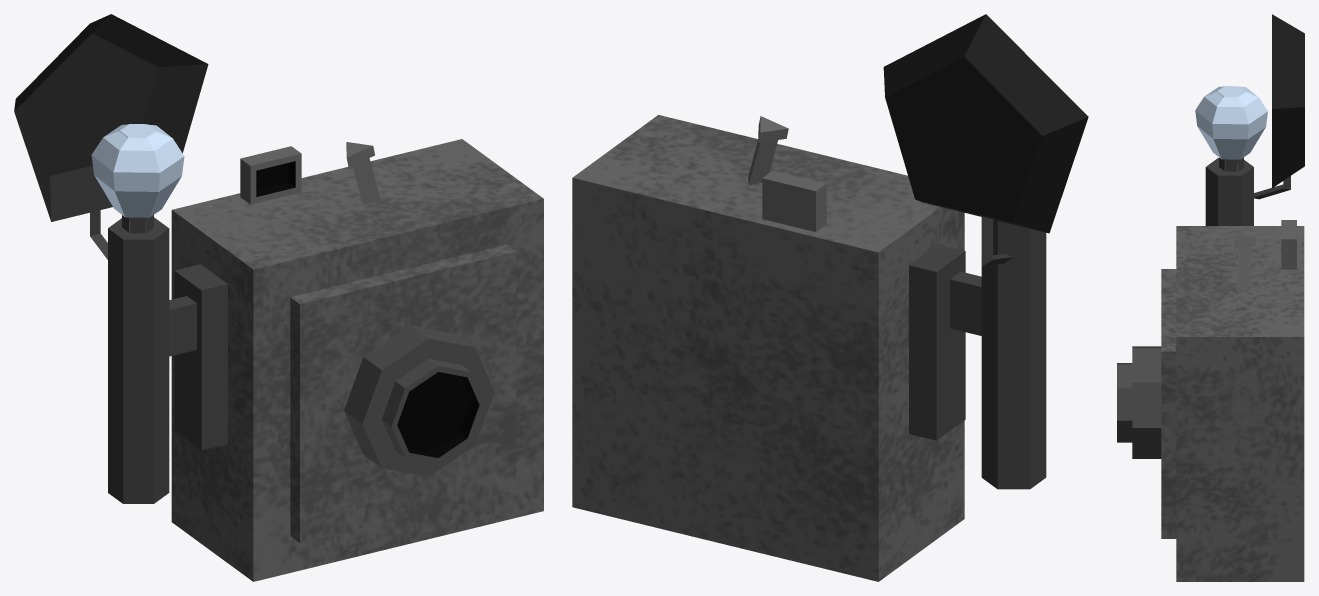
The model's file is cameraTexturizadaModel.fbx.
3 renders of one model, left to right at view 1: azimuth 30°, elevation 25°; view 2: azimuth 150°, elevation 25°; view 3: azimuth 270°, elevation 25°, orthographic. The views are drawn at different scales.
Parts seen in each view (by area): view 1: Body, FlashCilindro, Subarmg, CamCilynder, SideConnector, Lamp, CamPhoto, Arm, Trigger; view 2: Body, FlashCilindro, Subarmg, SideConnector, CamPhoto, Arm, Trigger, Conector; view 3: Body, FlashCilindro, CamCilynder, Lamp, Subarmg, Trigger, CamPhoto, Conector.
Part boxes in pixels (bbox=[...]): Body: bbox=[171, 139, 543, 581]; FlashCilindro: bbox=[14, 14, 208, 221]; Subarmg: bbox=[108, 217, 169, 503]; CamCilynder: bbox=[344, 325, 494, 476]; SideConnector: bbox=[174, 264, 227, 450]; Lamp: bbox=[91, 124, 184, 233]; CamPhoto: bbox=[240, 146, 301, 204]; Arm: bbox=[169, 296, 196, 356]; Trigger: bbox=[346, 142, 380, 204]; Body: bbox=[572, 115, 964, 581]; FlashCilindro: bbox=[883, 14, 1088, 233]; Subarmg: bbox=[981, 220, 1046, 489]; SideConnector: bbox=[909, 244, 965, 440]; CamPhoto: bbox=[762, 170, 826, 231]; Arm: bbox=[950, 271, 981, 335]; Trigger: bbox=[748, 116, 788, 185]; Conector: bbox=[981, 216, 1013, 266]; Body: bbox=[1161, 226, 1304, 581]; FlashCilindro: bbox=[1272, 14, 1304, 188]; CamCilynder: bbox=[1117, 346, 1161, 458]; Lamp: bbox=[1195, 86, 1267, 171]; Subarmg: bbox=[1205, 158, 1253, 225]; Trigger: bbox=[1234, 234, 1255, 289]; CamPhoto: bbox=[1281, 220, 1296, 269]; Conector: bbox=[1254, 176, 1290, 199].
Bounding box in the file's own units: 74.66 × 82.66 × 33.06.
